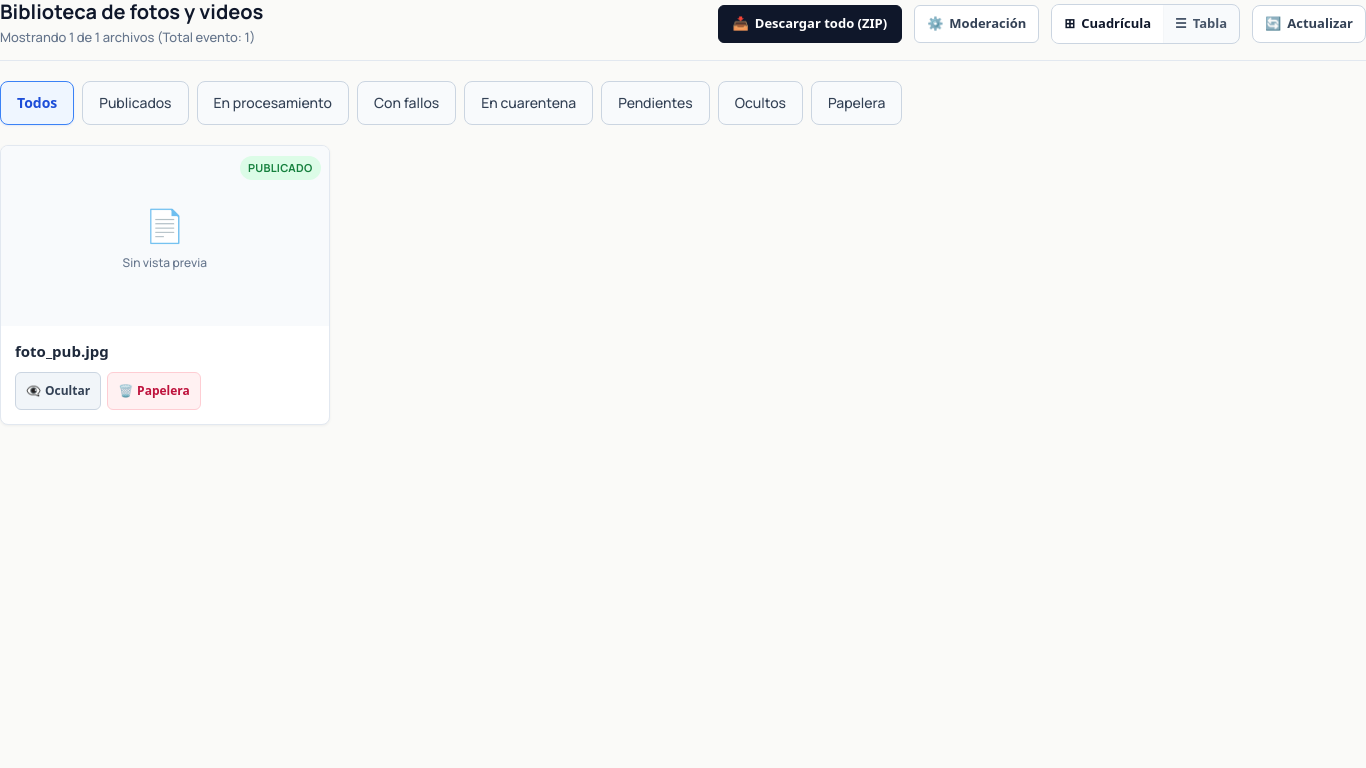
Test: OrganizerMediaLibraryComponent & Media Integration (EL-TK-100) › EL-TK-111 Moderation and Trash Integration › Escenario 2A: Abre HideMediaDialog con notas de consecuencia y ejecuta ocultamiento al confirmar
The width and height of the screenshot is (1366, 768).
Click hide opens dialog
Click the button with class "btn-hide" at point(58, 391), box [15,372,101,410]
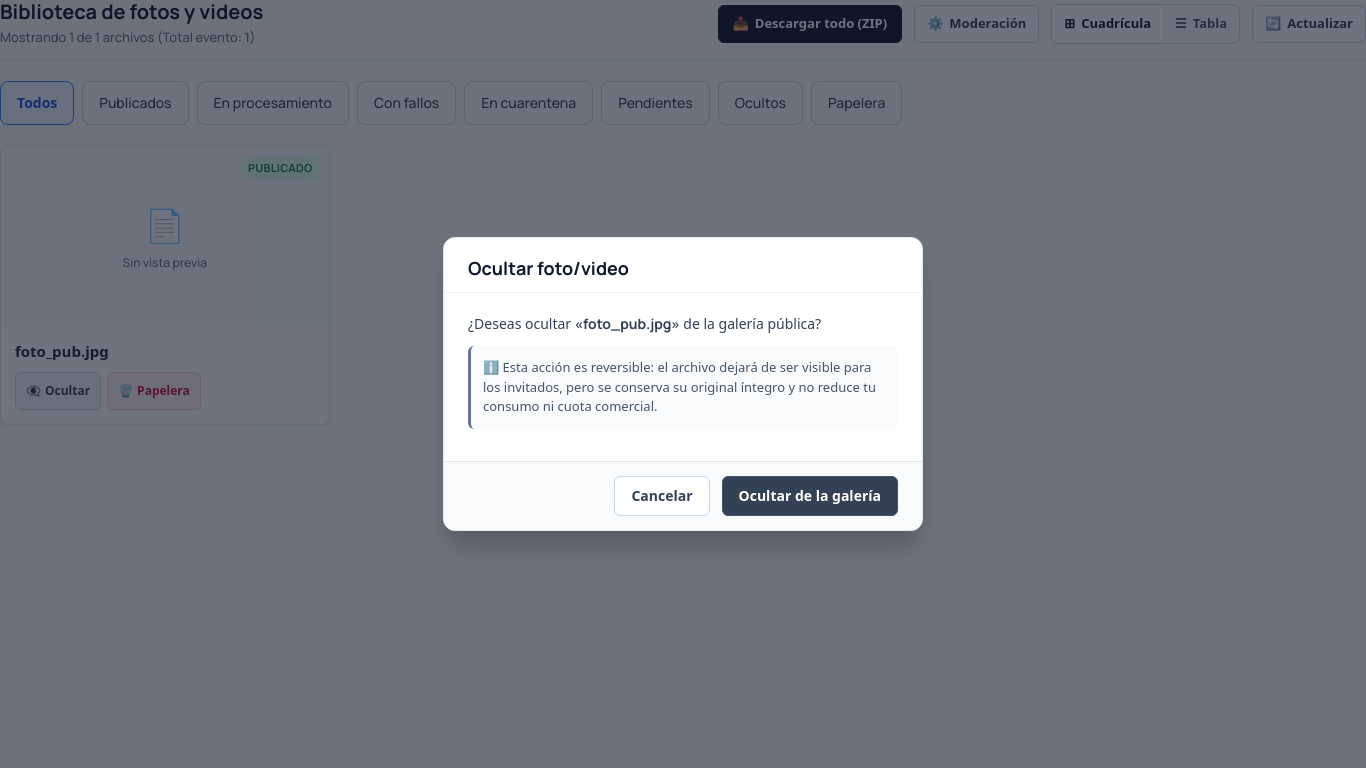
Click confirm in dialog
Click the button with class "btn-confirm-hide" at point(810, 496), box [722,476,898,516]
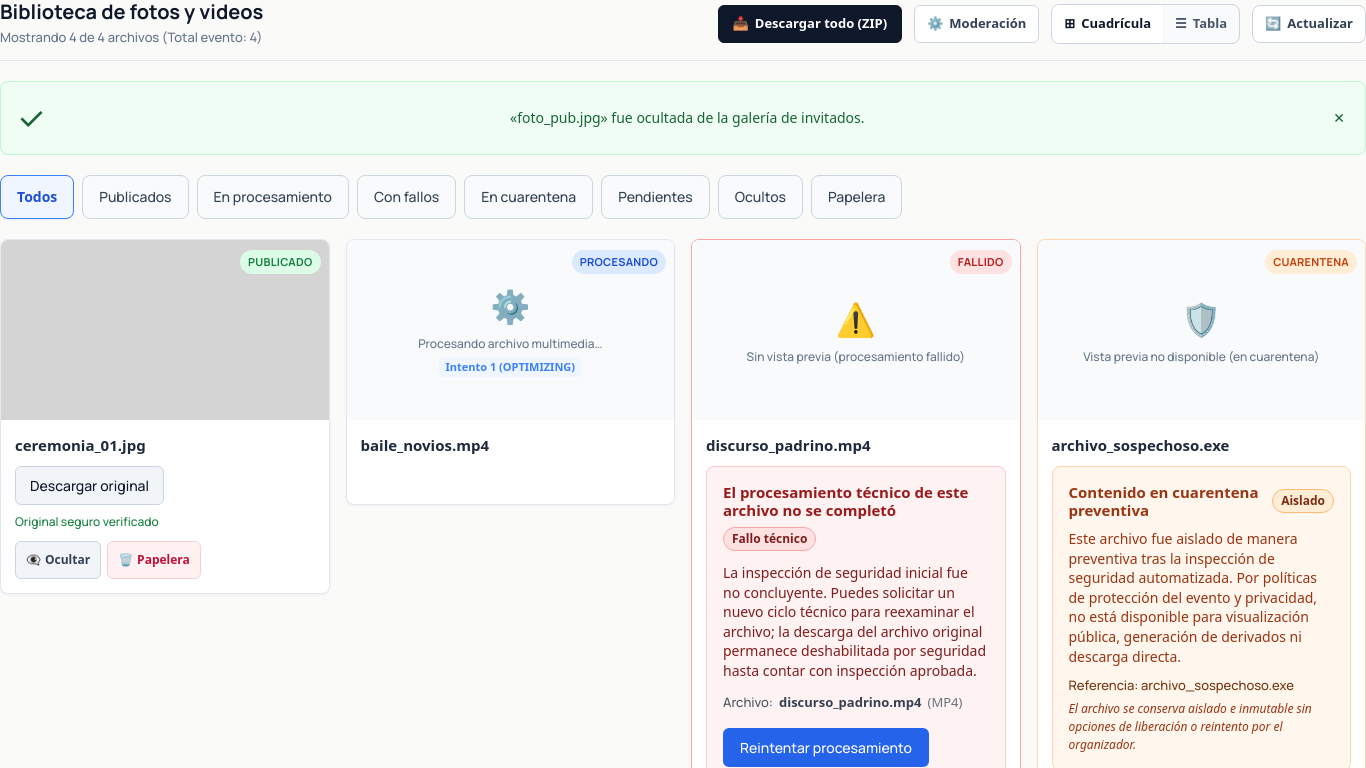
Expected: the message with class "alert-success" shows "«foto_pub.jpg» fue ocultada de la galería de invitados.", [510,108,864,127]
